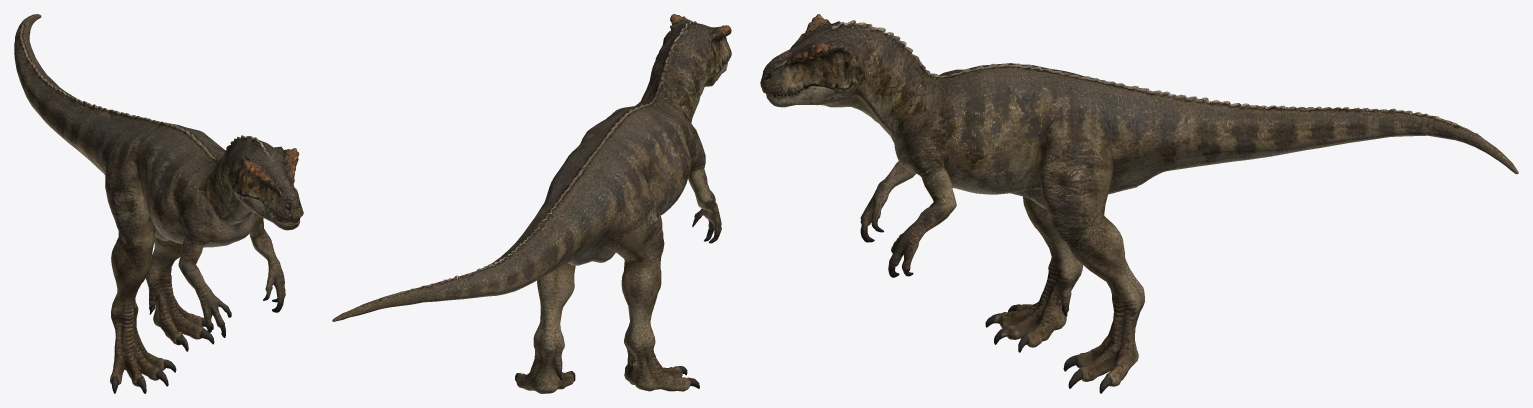
Rendered from allosaurus.glb.
3 renders of one model, left to right at view 1: azimuth 30°, elevation 25°; view 2: azimuth 150°, elevation 25°; view 3: azimuth 270°, elevation 25°, orthographic. The views are drawn at different scales.
Visible parts, largest first — view 1: dino; view 2: dino; view 3: dino.
Boxes of the visible parts, left/top/right/bottom form: dino: left=14, top=14, right=303, bottom=393; dino: left=332, top=14, right=731, bottom=393; dino: left=760, top=14, right=1518, bottom=393.
Bounding box in the file's own units: 2.18 × 4.22 × 8.5.
Materials: 1 (1 with a texture image).
